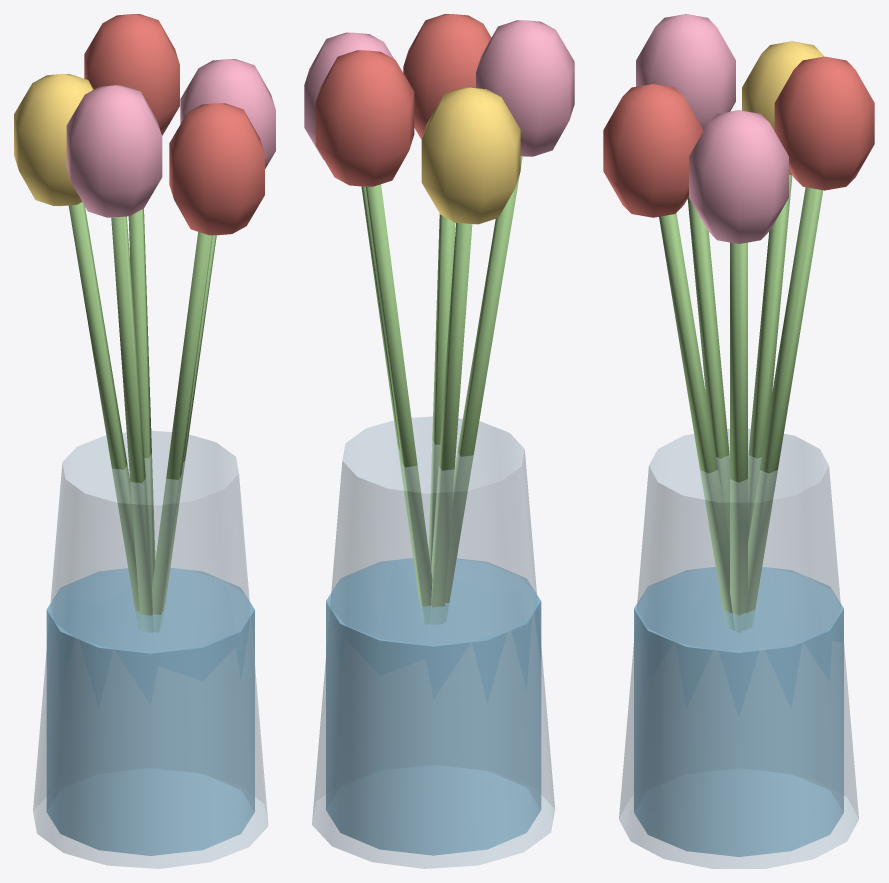
3 renders of one model, left to right at view 1: azimuth 30°, elevation 25°; view 2: azimuth 150°, elevation 25°; view 3: azimuth 270°, elevation 25°, orthographic. The views are drawn at different scales.
Visible parts, largest first — view 1: Decor_vase_tulips; view 2: Decor_vase_tulips; view 3: Decor_vase_tulips.
Boxes of the visible parts, <box> form: Decor_vase_tulips: <box>14,14,275,868</box>; Decor_vase_tulips: <box>304,14,574,868</box>; Decor_vase_tulips: <box>603,14,874,868</box>.
Size of the model in its own units: 0.1751 by 0.569 by 0.1807.
Materials: 2 (2 with a texture image).
